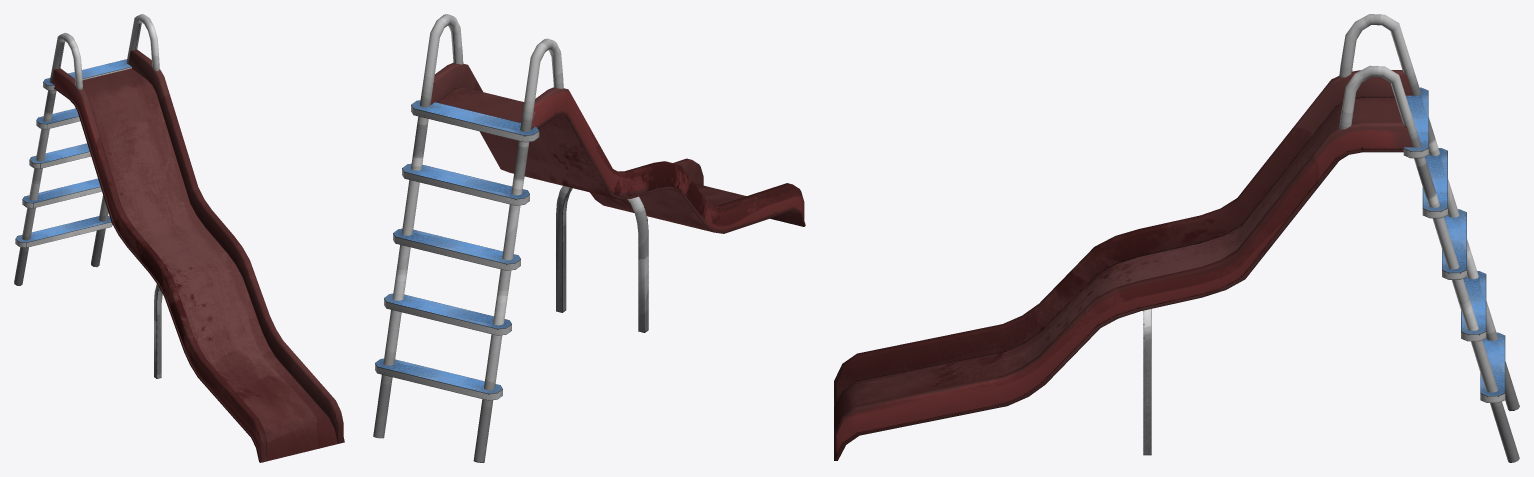
File: Slide_Asset.fbx
The picture shows the model from 3 angles, left to right: view 1: azimuth 30°, elevation 25°; view 2: azimuth 150°, elevation 25°; view 3: azimuth 270°, elevation 25°; orthographic projection. The views are drawn at different scales.
Parts seen in each view (by area): view 1: Slide, SlideLadder, SlideSupport; view 2: SlideLadder, Slide, SlideSupport; view 3: Slide, SlideLadder, SlideSupport.
Part boxes in pixels (x1,y1,x2,y2): Slide: (51, 49, 344, 462); SlideLadder: (14, 14, 159, 285); SlideSupport: (154, 284, 162, 378); SlideLadder: (373, 14, 563, 462); Slide: (430, 62, 805, 233); SlideSupport: (556, 186, 648, 332); Slide: (834, 70, 1412, 460); SlideLadder: (1339, 14, 1519, 462); SlideSupport: (1143, 309, 1151, 455).
Size of the model in its own units: 73.22 by 336 by 214.
